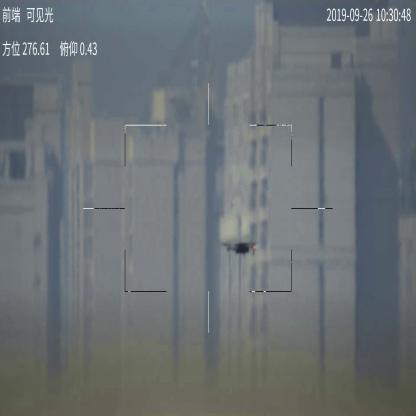uav: (221, 239, 263, 257)
